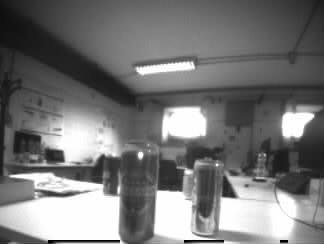Bottle: (257, 151, 265, 176)
Tin can: (119, 140, 155, 243), (190, 158, 220, 236), (103, 155, 118, 195)
